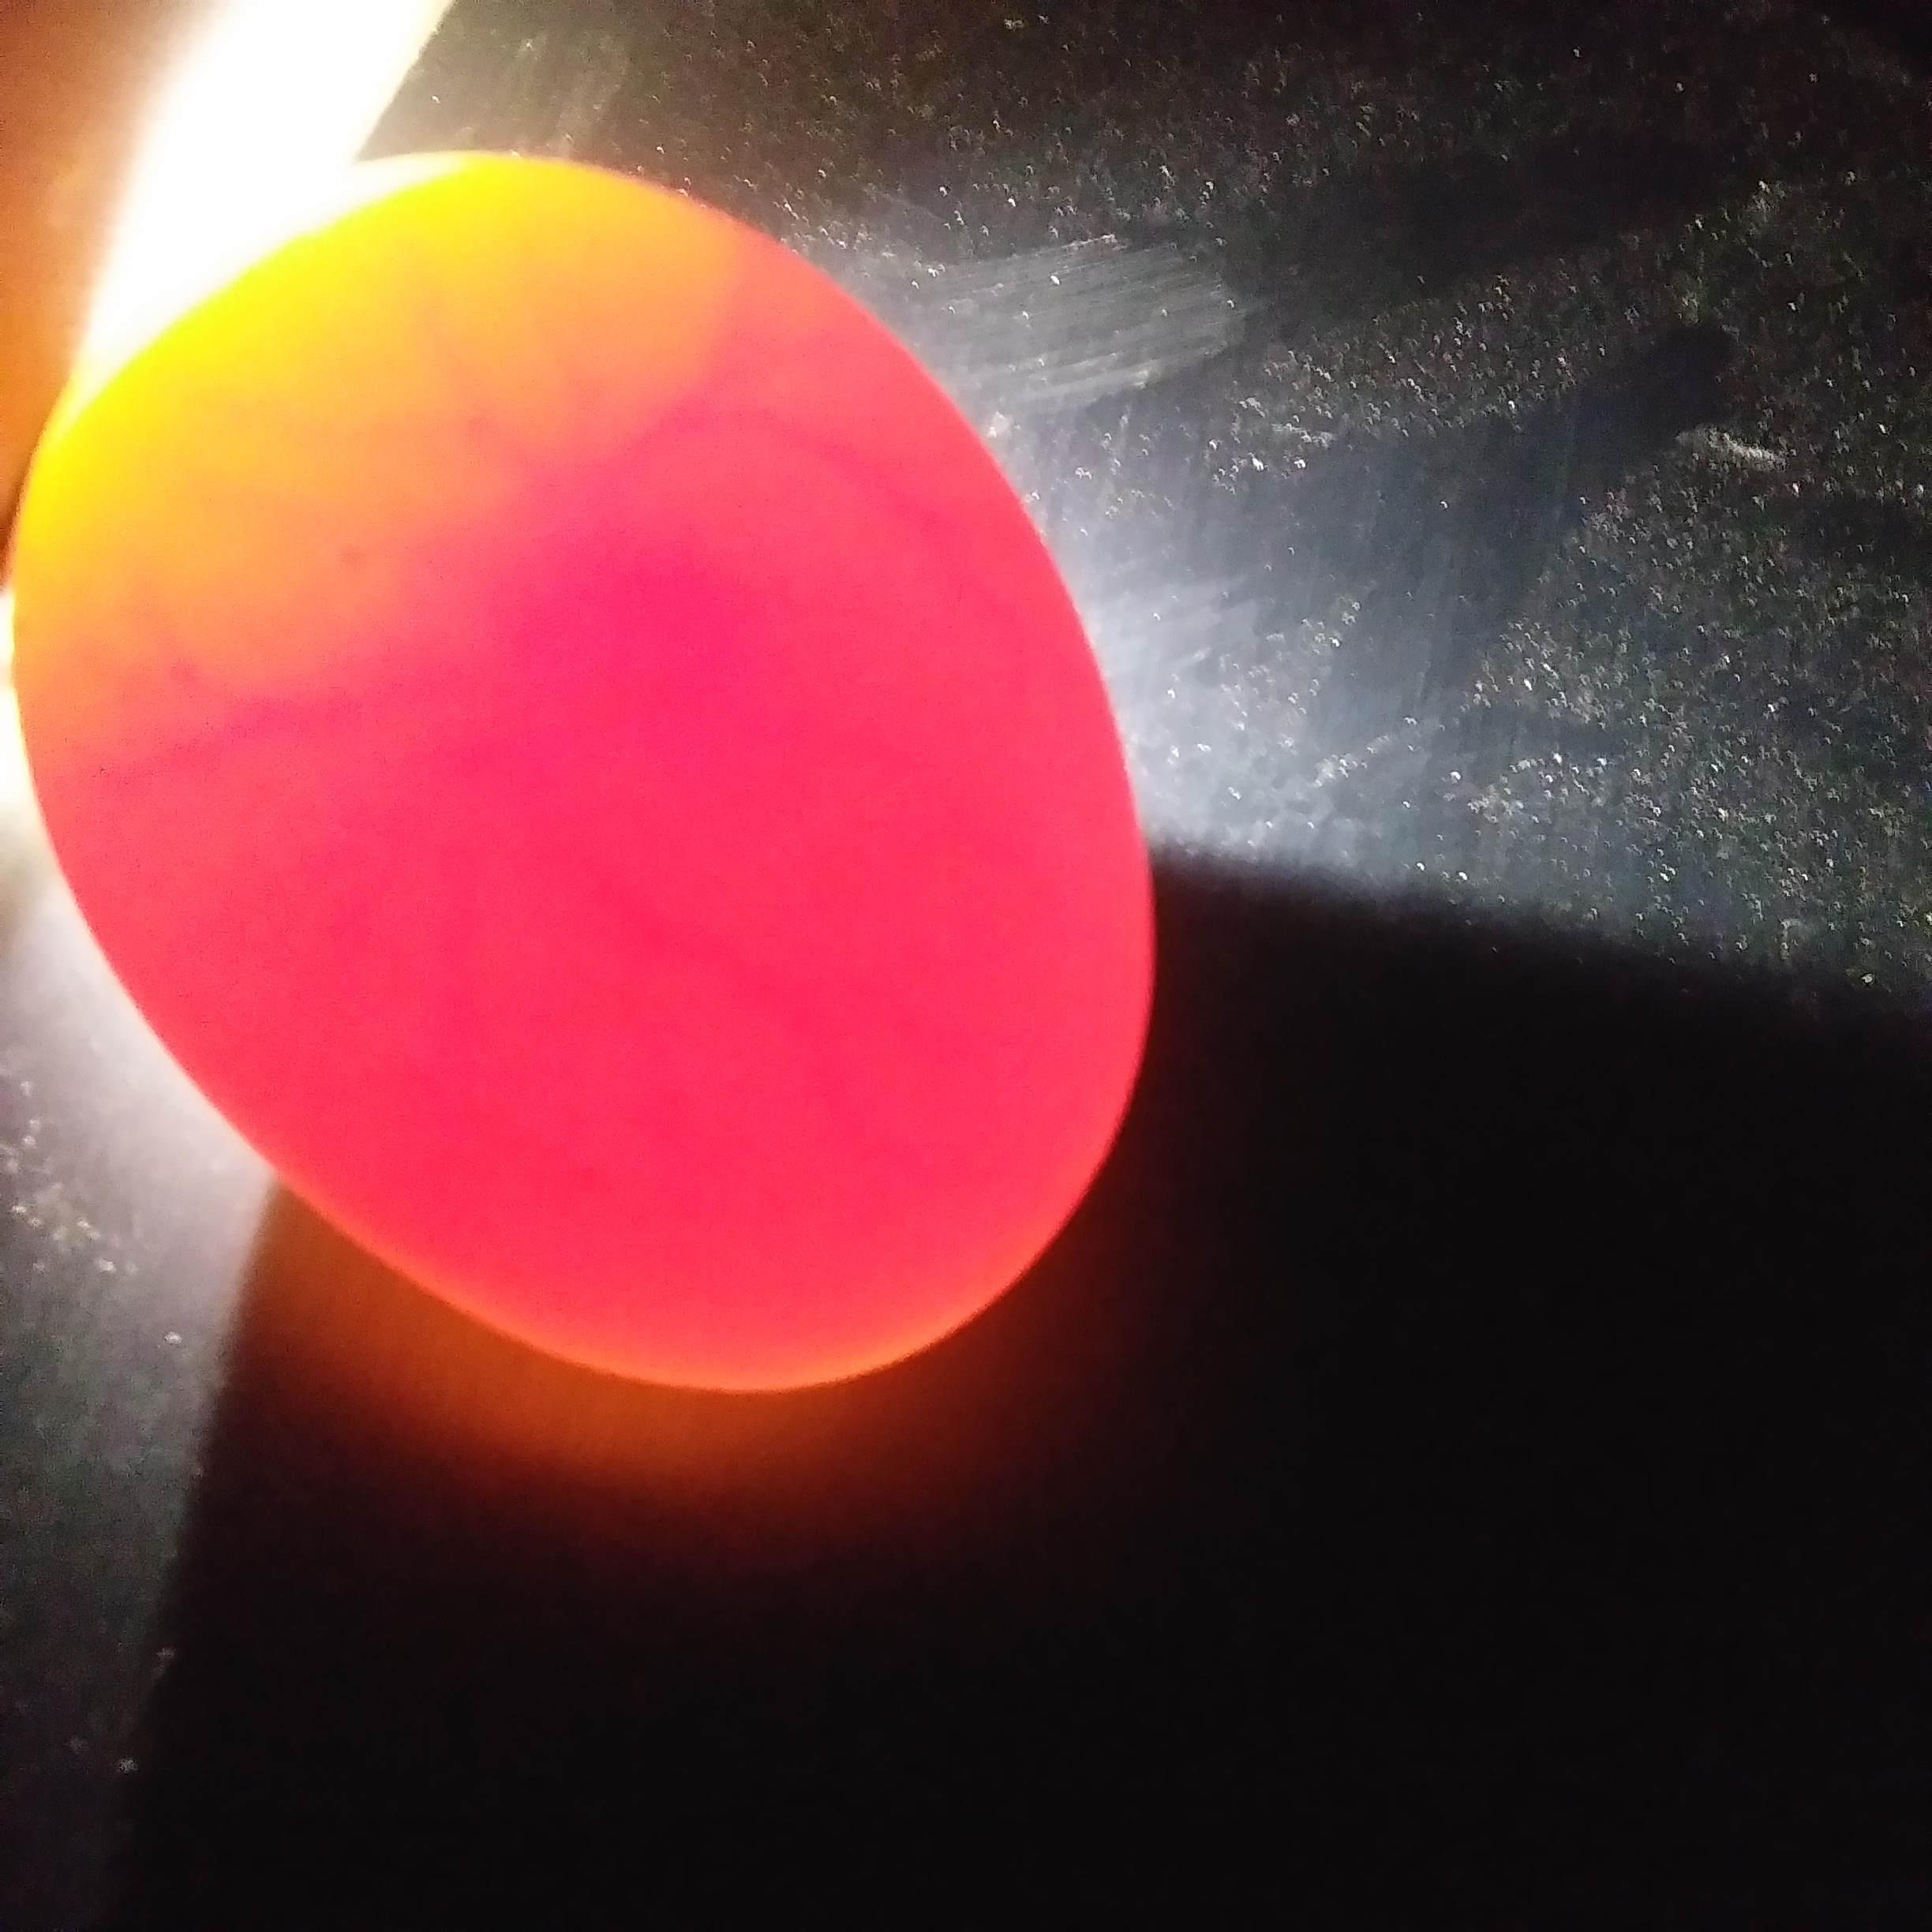bloodcell: (343, 759, 1035, 1254), (71, 439, 476, 690), (564, 257, 826, 502)
embryo: (502, 545, 663, 717)
